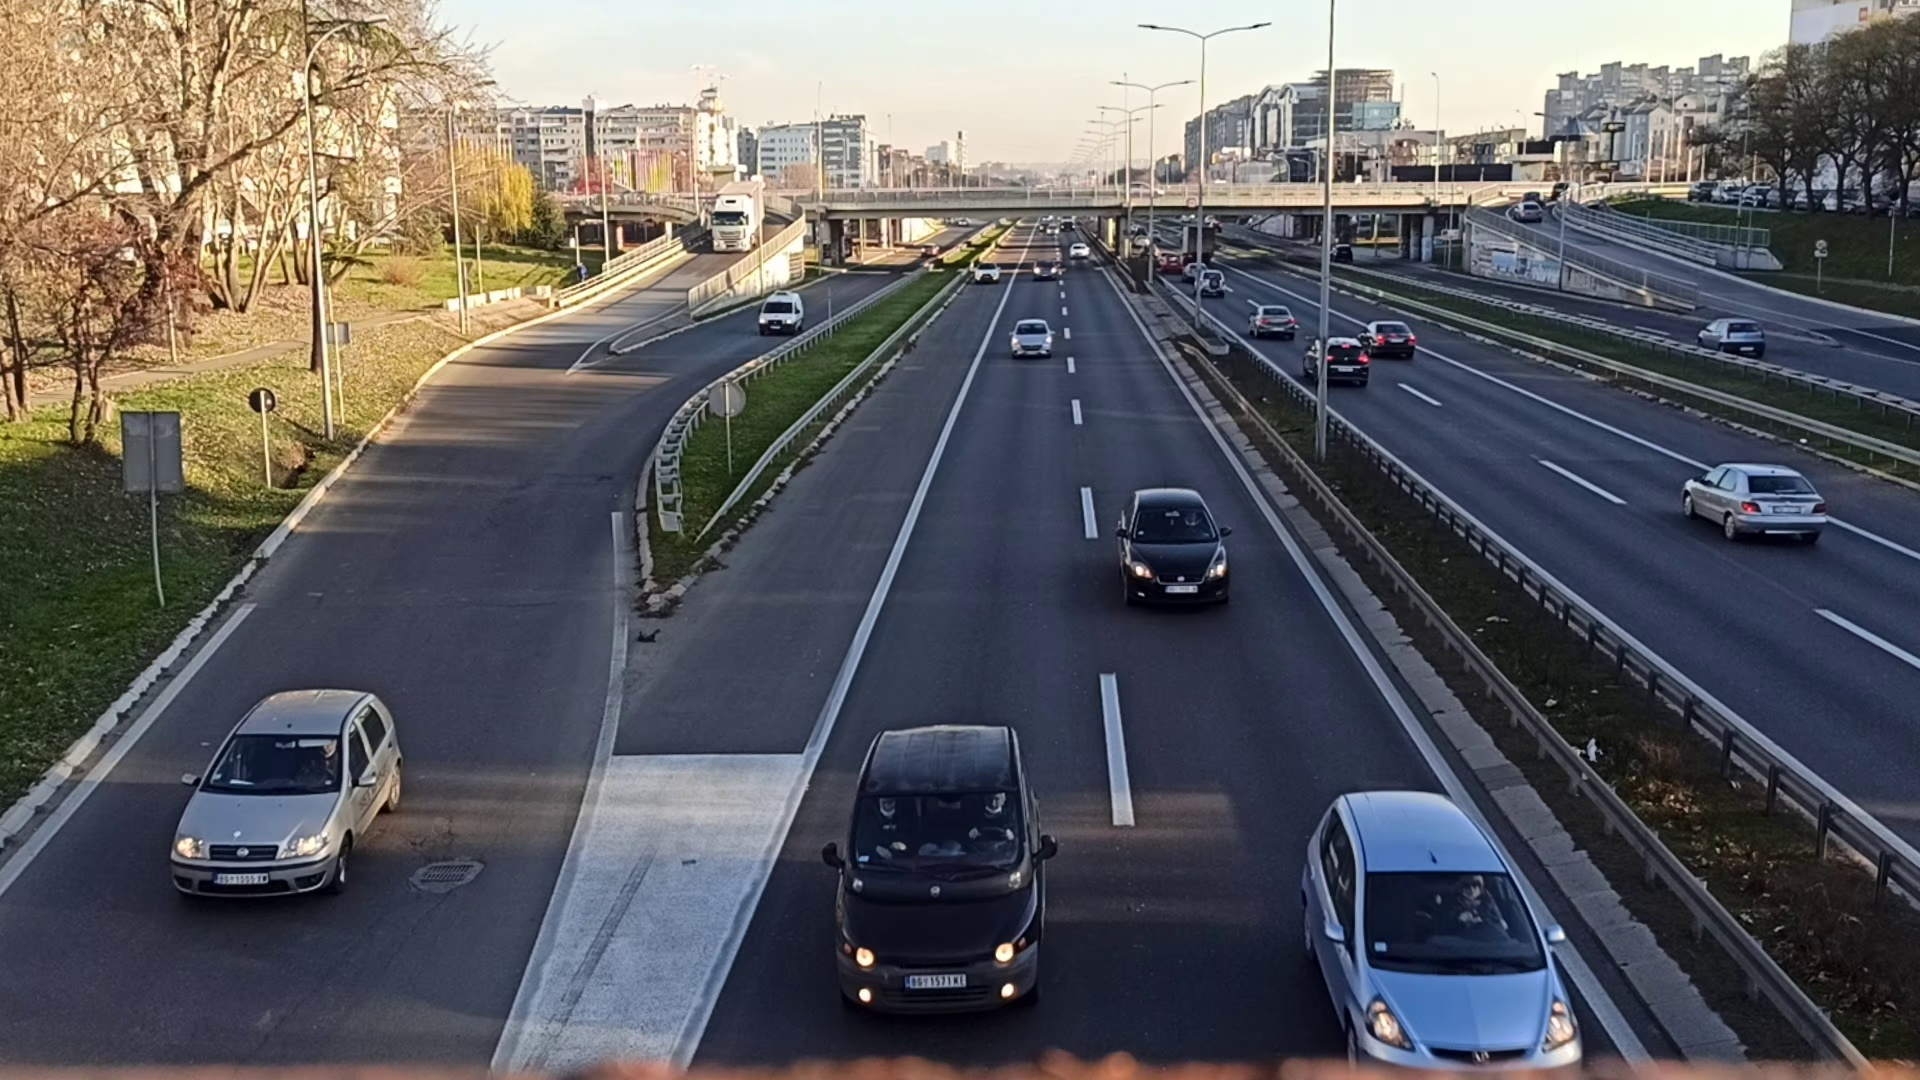car: (1295, 789, 1585, 1059), (835, 724, 1040, 1011), (165, 688, 409, 899), (1120, 485, 1230, 609), (1681, 460, 1829, 546), (1303, 339, 1366, 382), (760, 290, 802, 334), (1366, 320, 1414, 355), (1011, 319, 1054, 357)
truck: (709, 183, 765, 251)
